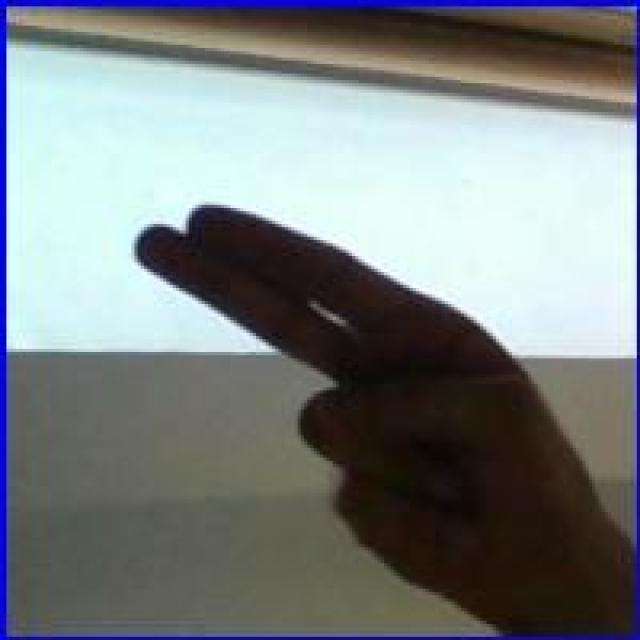H: (125, 197, 618, 629)
